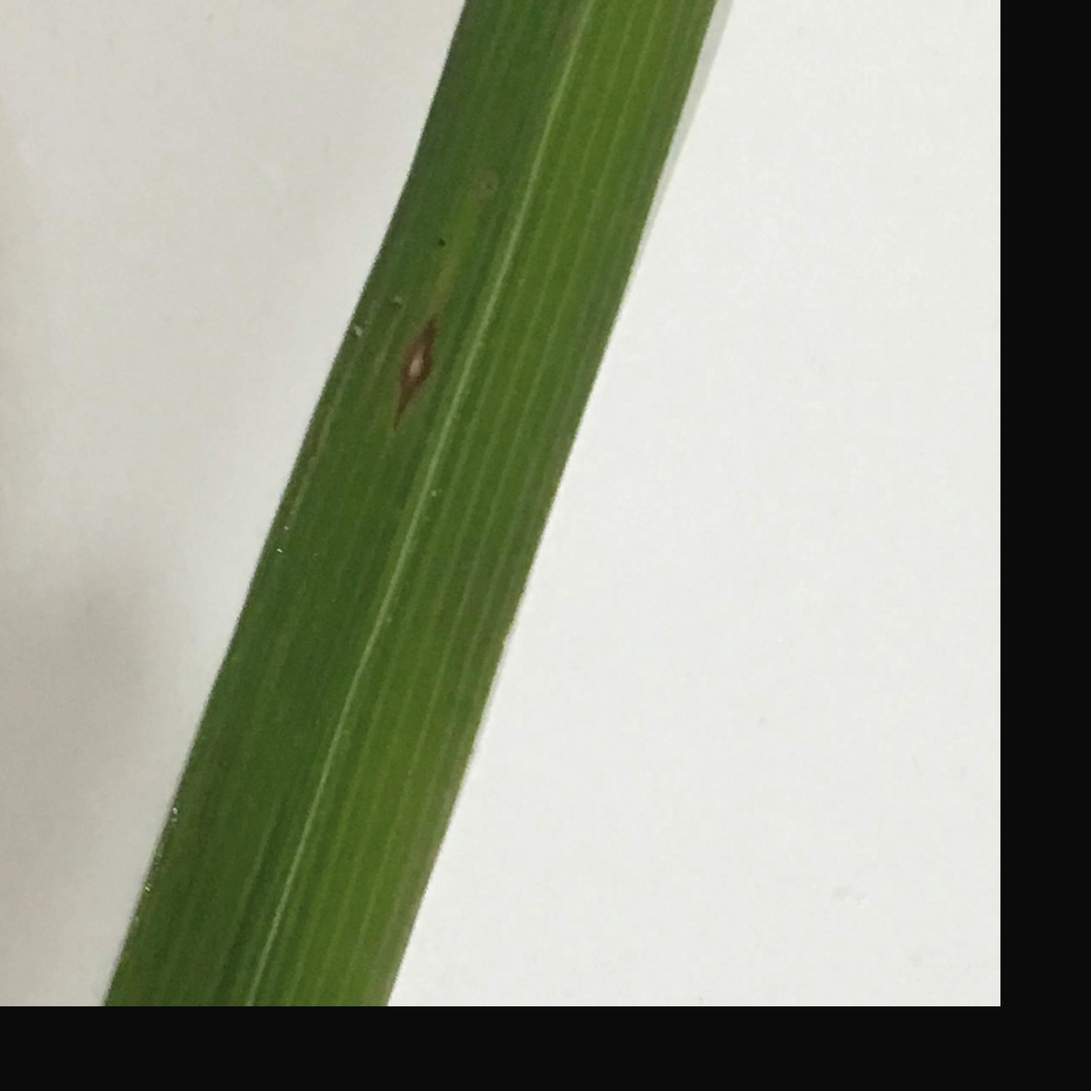Brown_Spot: (382, 249, 451, 444)
